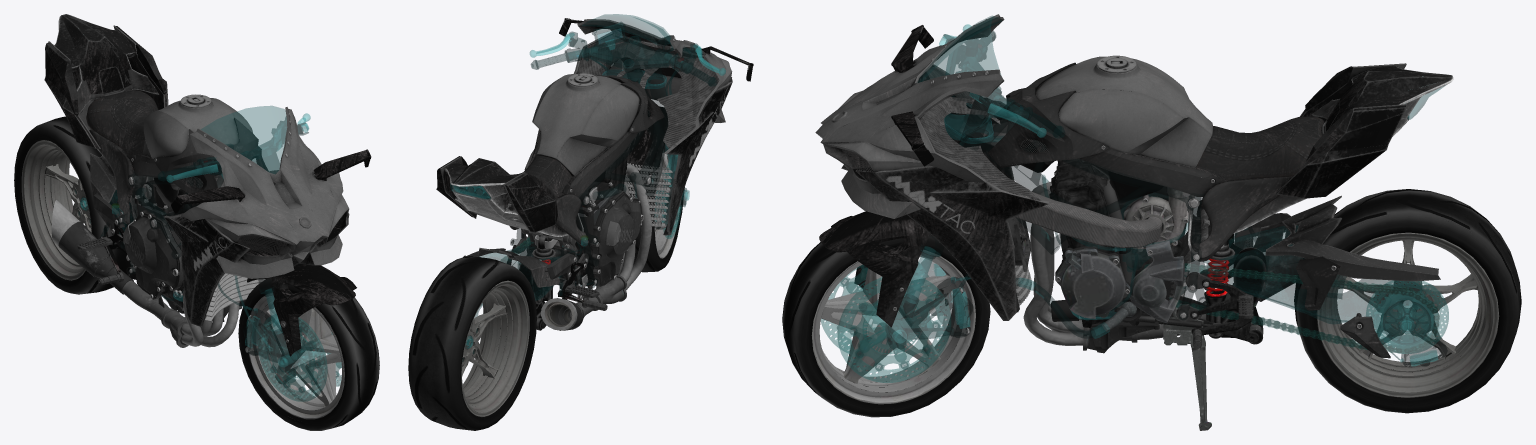
The model's file is VEH_Kawasaki_Interactive_20261007.glb.
3 renders of one model, left to right at view 1: azimuth 30°, elevation 25°; view 2: azimuth 150°, elevation 25°; view 3: azimuth 270°, elevation 25°, orthographic. The views are drawn at different scales.
Parts seen in each view (by area): view 1: Motorcycle_Body_Geometry, Wheel_F_Geometry, Wheel_R_Geometry, Steering_F_Geometry; view 2: Motorcycle_Body_Geometry, Wheel_R_Geometry, Steering_F_Geometry, Wheel_F_Geometry; view 3: Motorcycle_Body_Geometry, Wheel_R_Geometry, Wheel_F_Geometry, Steering_F_Geometry.
Part boxes in pixels (x1=…): Motorcycle_Body_Geometry: x1=44, y1=14, x2=371, y2=392; Wheel_F_Geometry: x1=238, y1=279, x2=379, y2=430; Wheel_R_Geometry: x1=14, y1=116, x2=131, y2=294; Steering_F_Geometry: x1=157, y1=106, x2=308, y2=347; Motorcycle_Body_Geometry: x1=436, y1=18, x2=753, y2=361; Wheel_R_Geometry: x1=408, y1=256, x2=536, y2=430; Steering_F_Geometry: x1=565, y1=14, x2=725, y2=187; Wheel_F_Geometry: x1=626, y1=143, x2=684, y2=272; Motorcycle_Body_Geometry: x1=815, y1=14, x2=1453, y2=430; Wheel_R_Geometry: x1=1294, y1=189, x2=1521, y2=413; Wheel_F_Geometry: x1=782, y1=236, x2=990, y2=417; Steering_F_Geometry: x1=917, y1=15, x2=1030, y2=322.
Bounding box in the file's own units: 0.8849 × 1.3 × 2.3.
4 materials, 4 textured.
